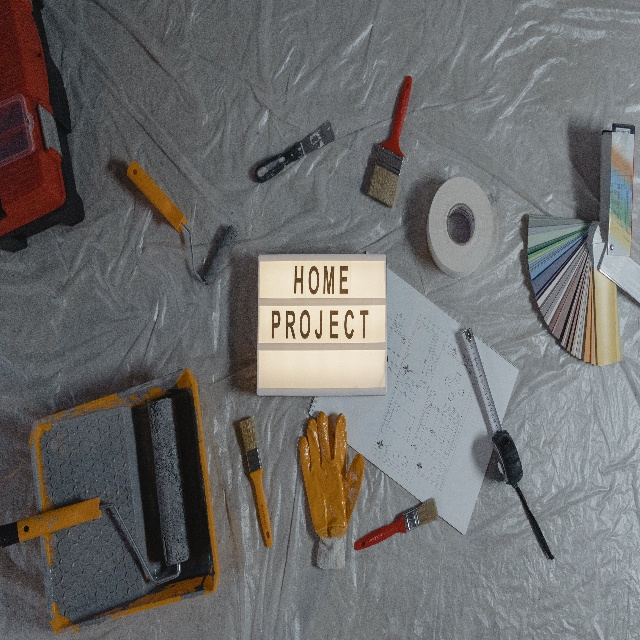Guantes: (298, 411, 366, 570)
